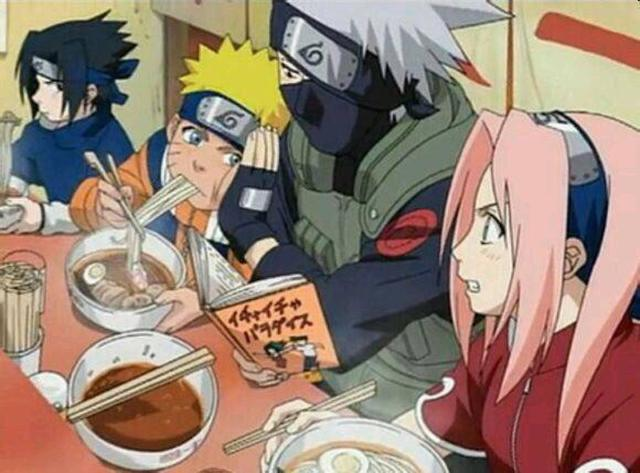kakashi: (268, 3, 406, 158)
naruto: (165, 87, 256, 208)
sakura: (450, 106, 617, 319)
sasuke: (28, 53, 106, 126)
